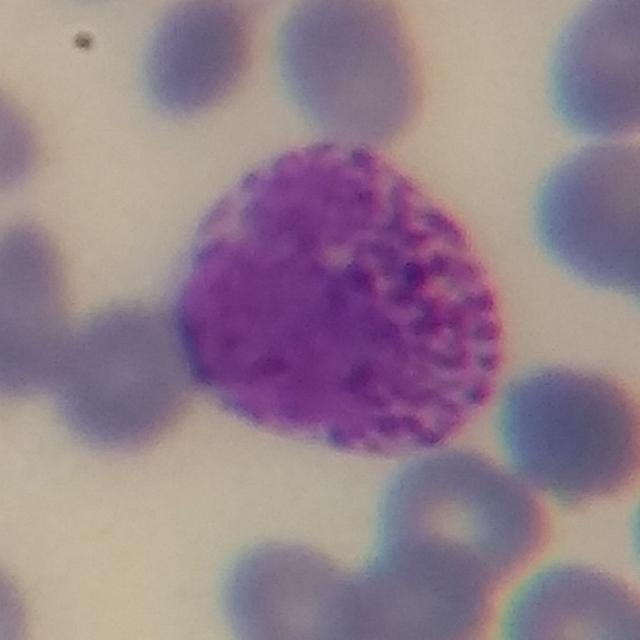Basophil: (158, 118, 534, 481)
RBC: (374, 442, 557, 586), (268, 0, 436, 150), (47, 297, 201, 460), (491, 353, 640, 510), (524, 129, 640, 313), (134, 0, 285, 128), (329, 534, 501, 640), (0, 210, 89, 411), (211, 531, 374, 640), (538, 0, 640, 143), (498, 554, 640, 639), (0, 67, 51, 215), (0, 537, 42, 638)
